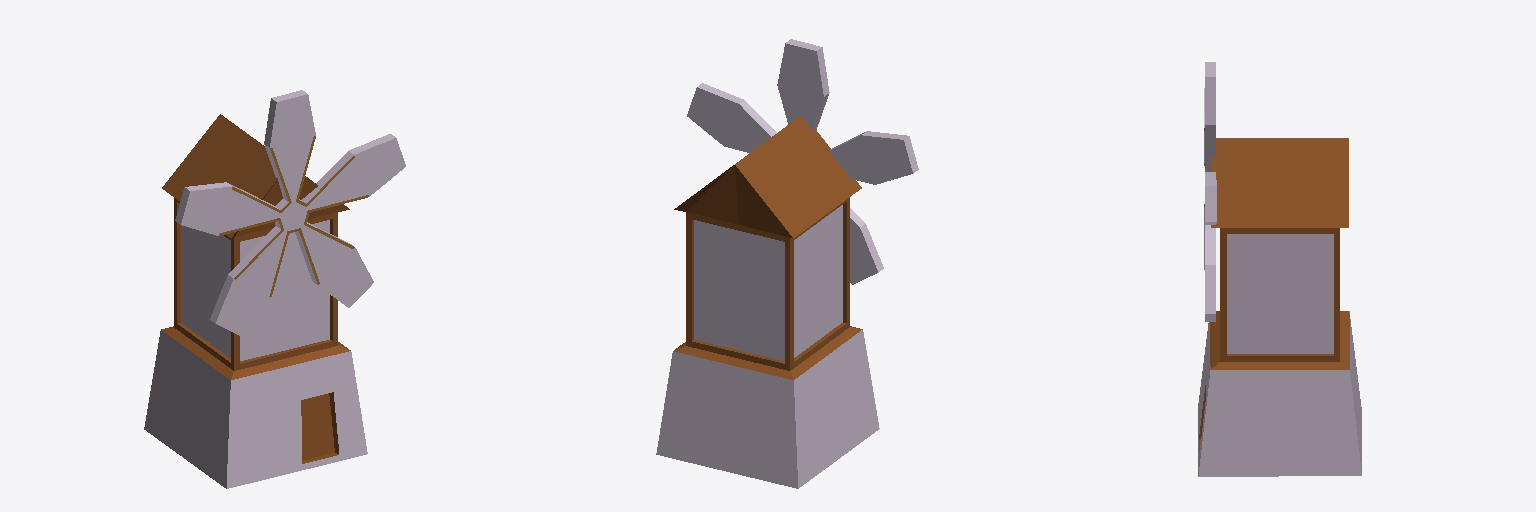
File: windmill.obj
3 views of the same model, side by side, from view 1: azimuth 30°, elevation 25°; view 2: azimuth 150°, elevation 25°; view 3: azimuth 270°, elevation 25° (orthographic).
Parts seen in each view (by area): view 1: Mill, propeller; view 2: Mill, propeller; view 3: Mill, propeller.
Part boxes in pixels (left/top/right/bottom): Mill: left=144, top=114, right=367, bottom=488; propeller: left=175, top=90, right=405, bottom=335; Mill: left=656, top=116, right=879, bottom=488; propeller: left=687, top=39, right=918, bottom=284; Mill: left=1198, top=138, right=1361, bottom=476; propeller: left=1204, top=62, right=1216, bottom=321.
Size of the model in its own units: 61.1 by 96.01 by 38.43.